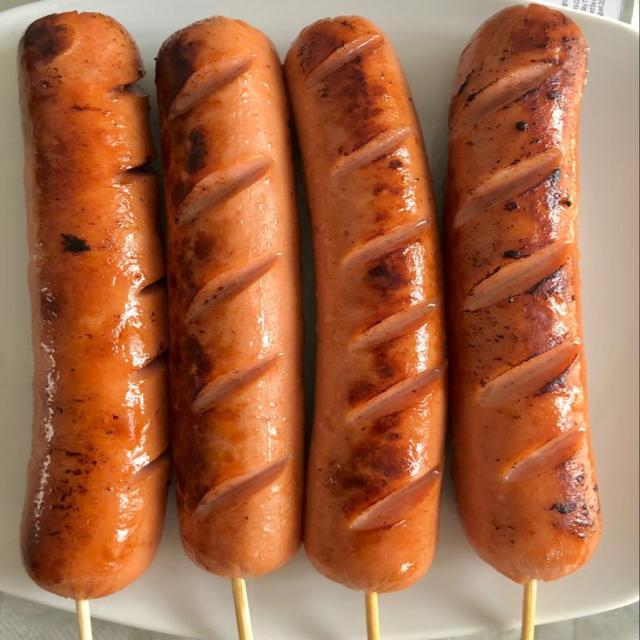sausage: (286, 17, 445, 591), (445, 5, 600, 582), (20, 13, 169, 599), (157, 17, 303, 577)
